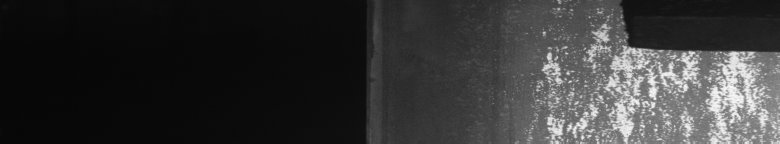kb: (526, 4, 776, 136)
